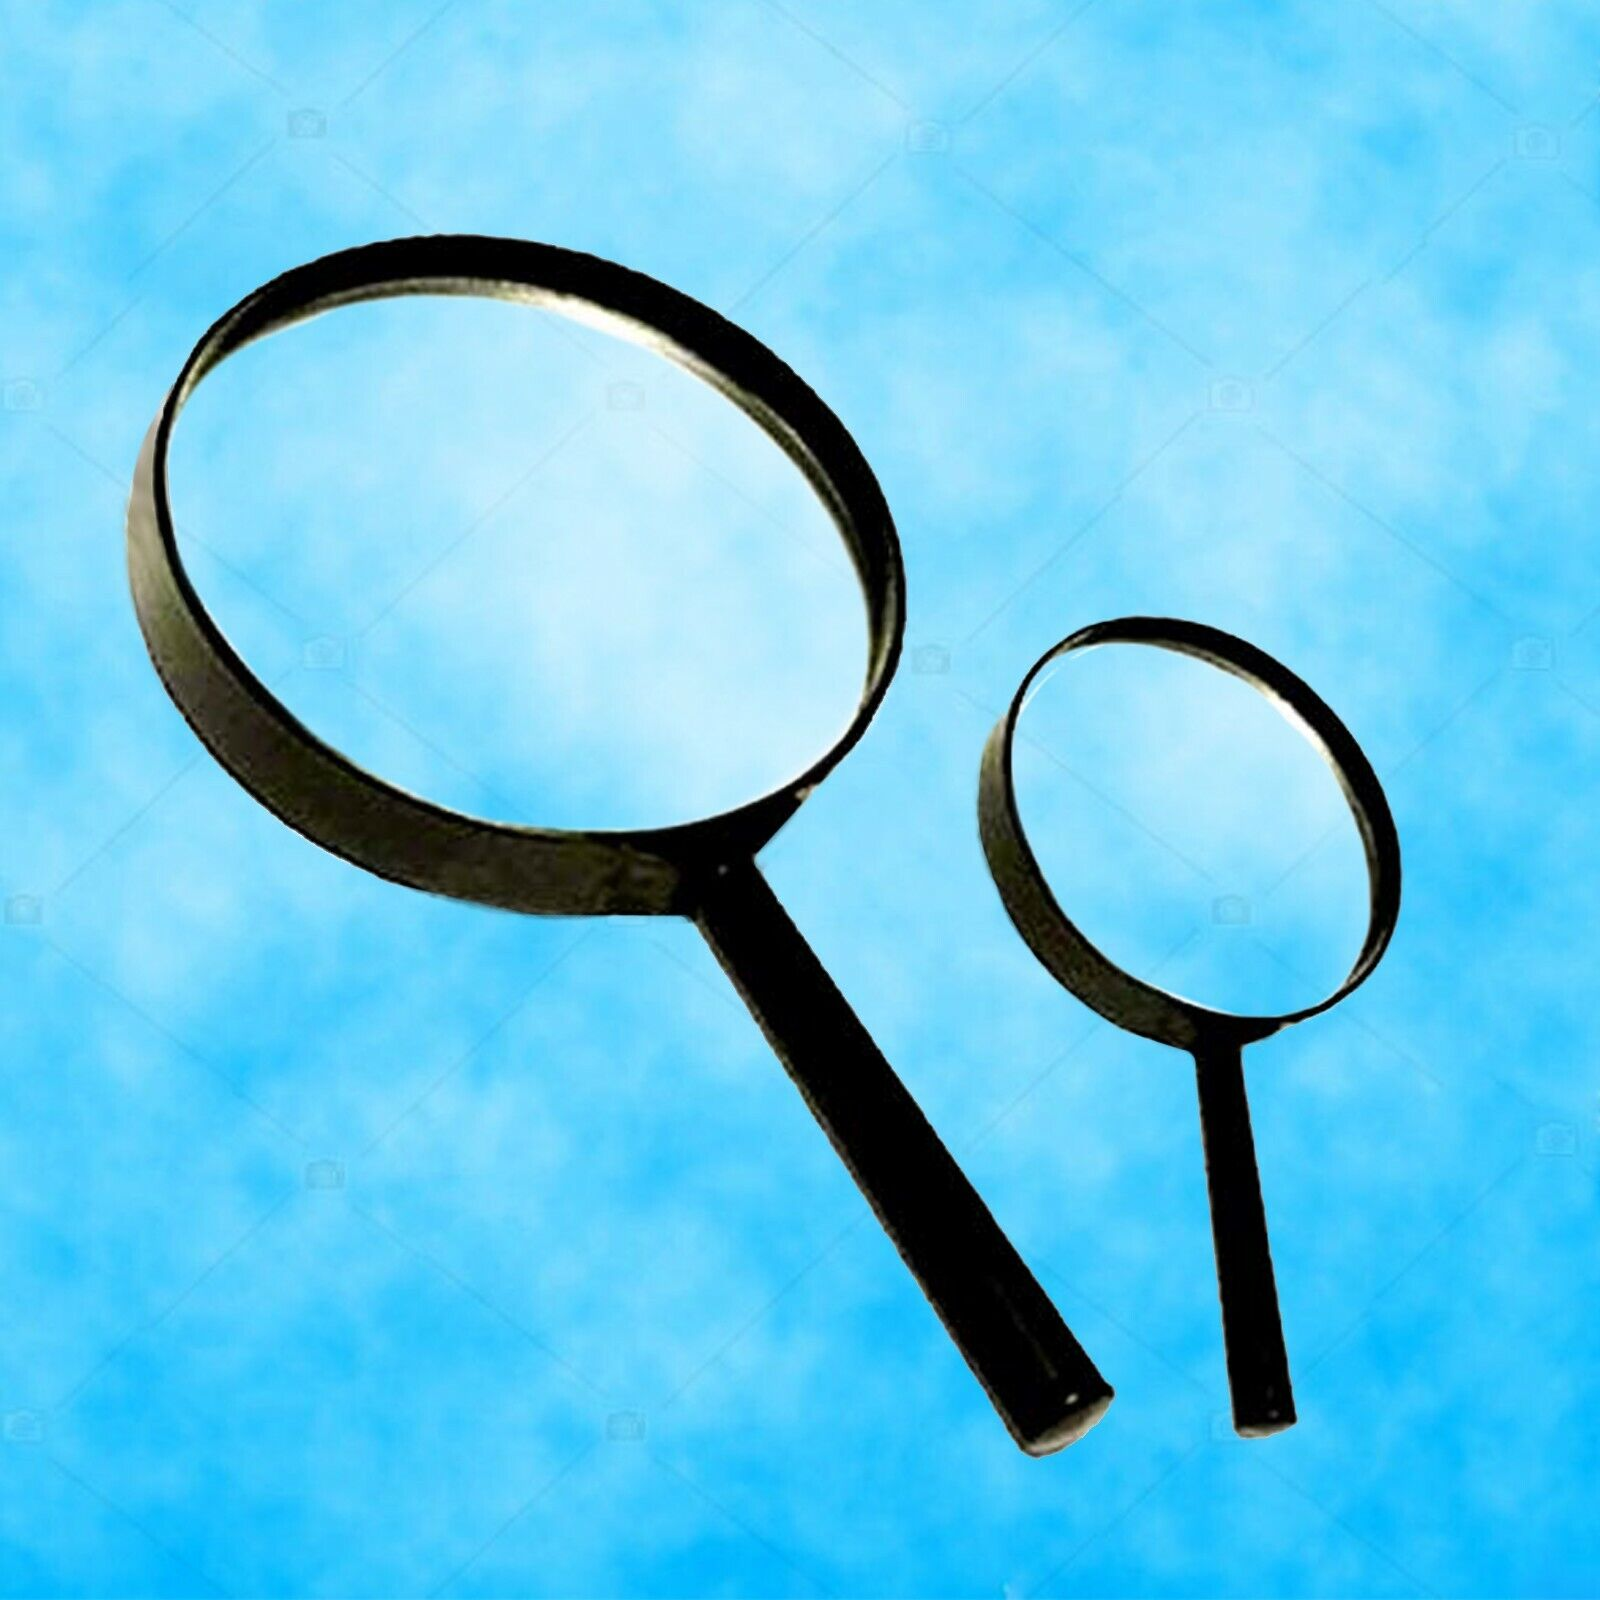magnifying-glass: (119, 211, 1478, 1185)
